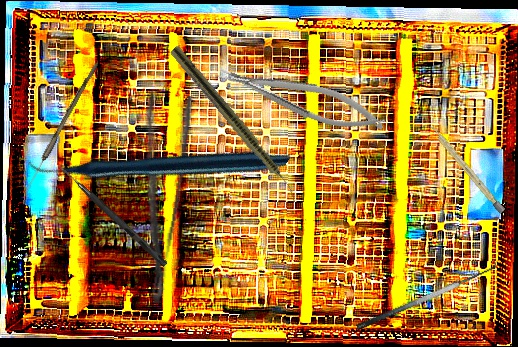Dressing Forceps: (116, 89, 198, 305)
Handpiece: (26, 36, 292, 286), (167, 44, 305, 205)
Hook Surgical: (55, 163, 169, 267)
Needle Holder: (214, 50, 390, 145)
Scalpel Handle: (427, 122, 506, 215)
Spatula Surgical: (350, 255, 501, 331)
Surgical Spoon: (23, 60, 99, 195)
